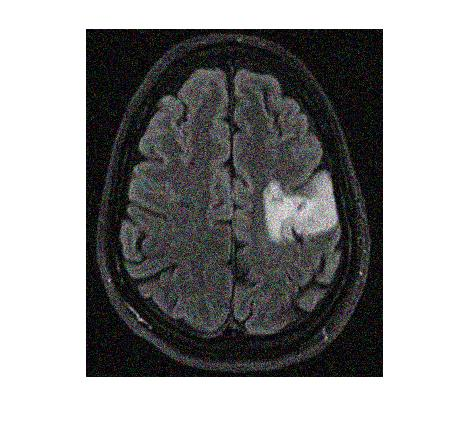Brain_Cancer: (264, 171, 338, 242)
